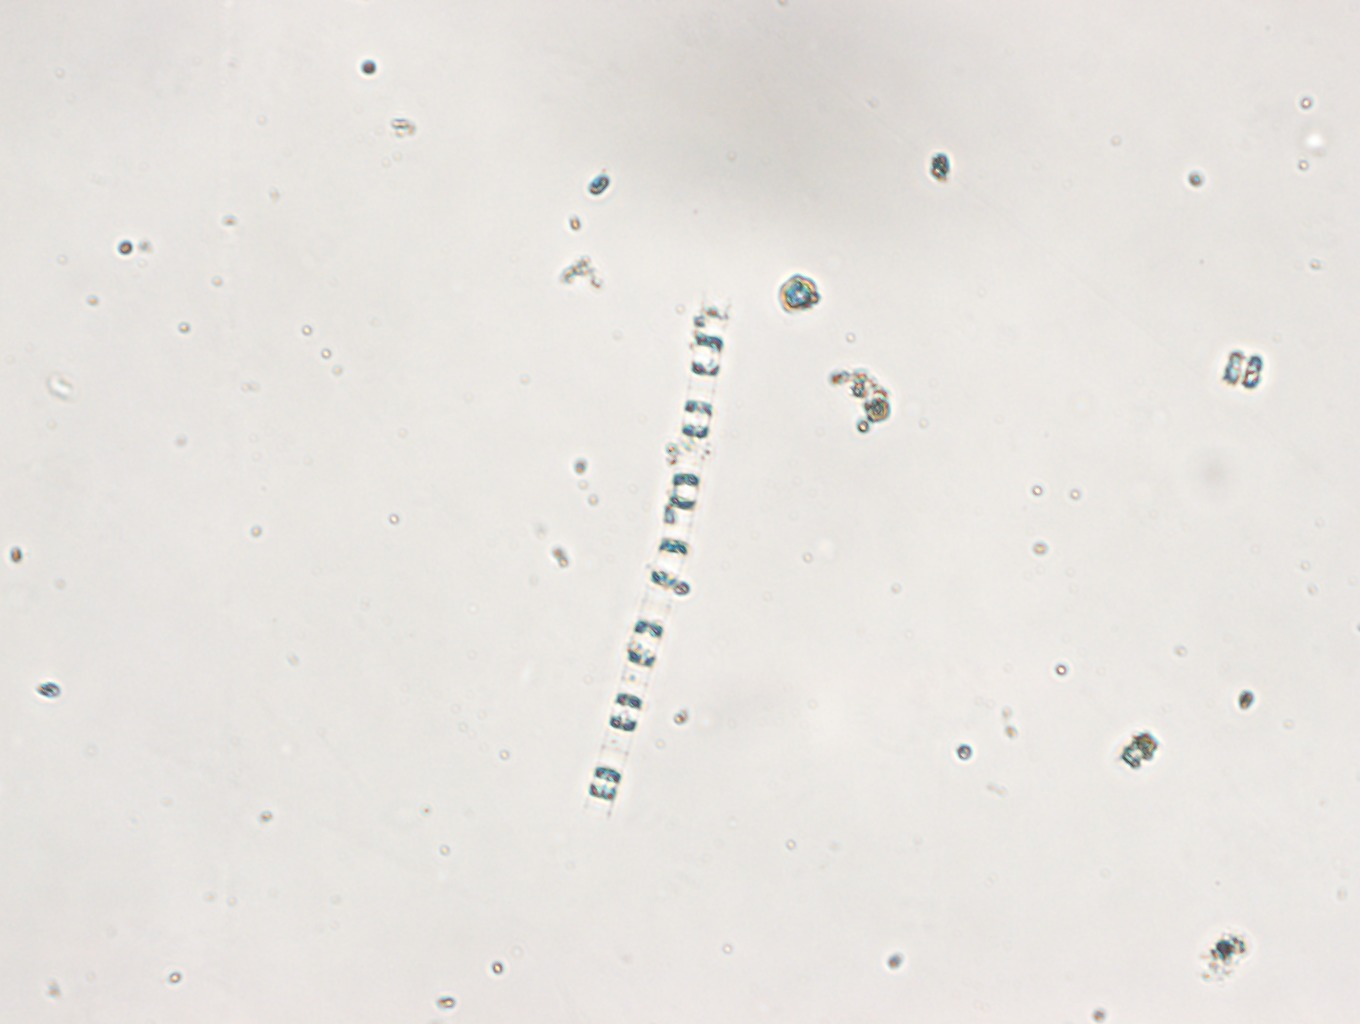skeletonema: (583, 287, 734, 820)
